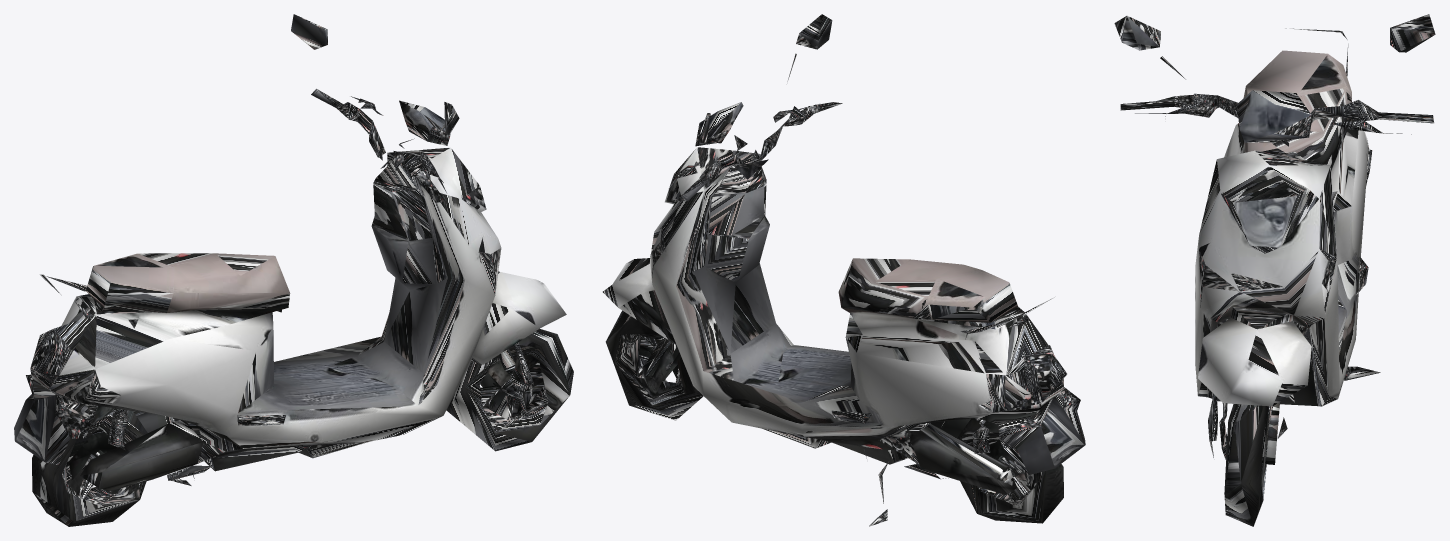
The model's file is scooter.glb.
3 views of the same model, side by side, from view 1: azimuth 30°, elevation 25°; view 2: azimuth 150°, elevation 25°; view 3: azimuth 270°, elevation 25° (orthographic). The views are drawn at different scales.
Parts seen in each view (by area): view 1: tripo_node_01a22048-e697-7722-bb78-998dbf09badd; view 2: tripo_node_01a22048-e697-7722-bb78-998dbf09badd; view 3: tripo_node_01a22048-e697-7722-bb78-998dbf09badd.
Part boxes in pixels (bbox=[...]): tripo_node_01a22048-e697-7722-bb78-998dbf09badd: bbox=[14, 14, 573, 526]; tripo_node_01a22048-e697-7722-bb78-998dbf09badd: bbox=[602, 14, 1085, 526]; tripo_node_01a22048-e697-7722-bb78-998dbf09badd: bbox=[1114, 14, 1435, 526].
Bounding box in the file's own units: 0.9941 × 0.7656 × 0.496.
1 material, 1 textured.
